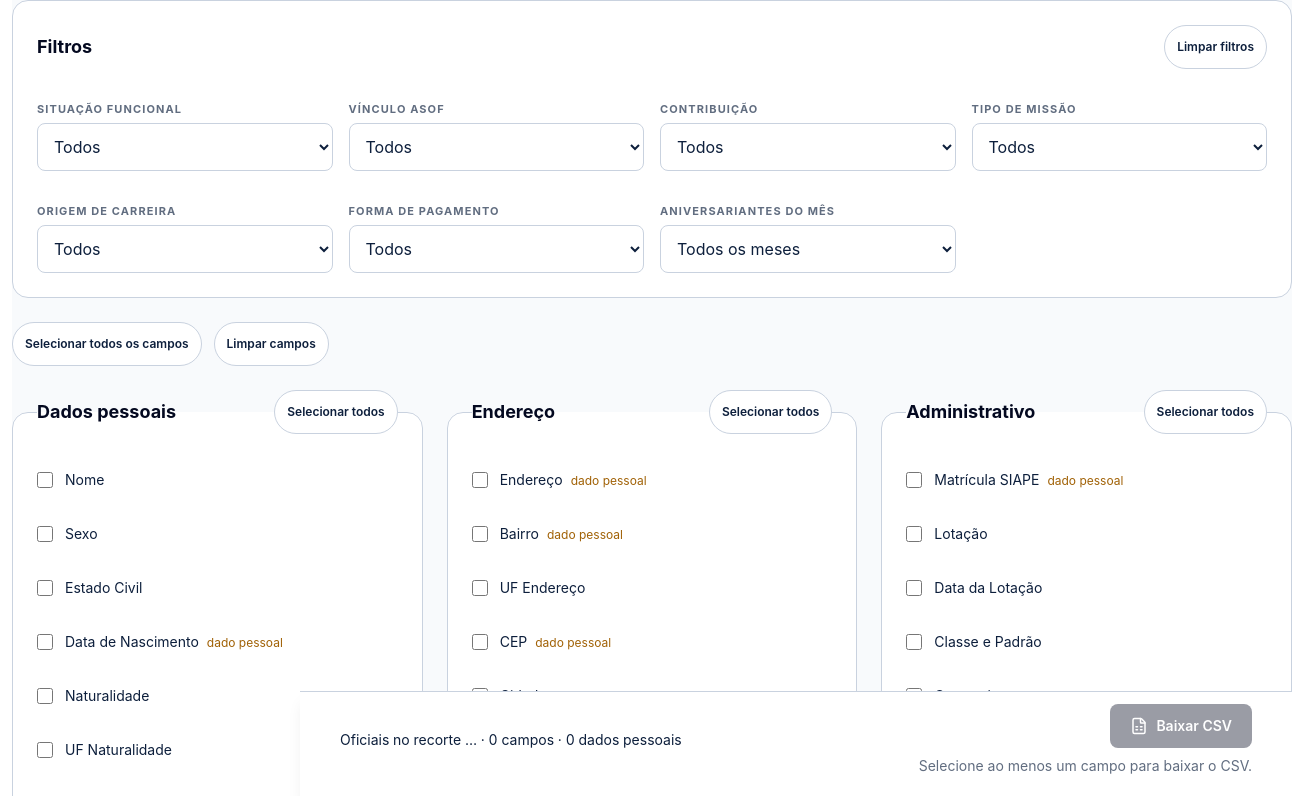
Test: RelatorioForm › keeps Baixar CSV disabled until a field is selected
Check: the heading "Filtros" is shown, box [37,33,92,61]
Check: the button "Baixar CSV" is disabled, box [1110,704,1252,748]
Click the checkbox labelled "Nome" at (45, 480), box [37,472,53,488]
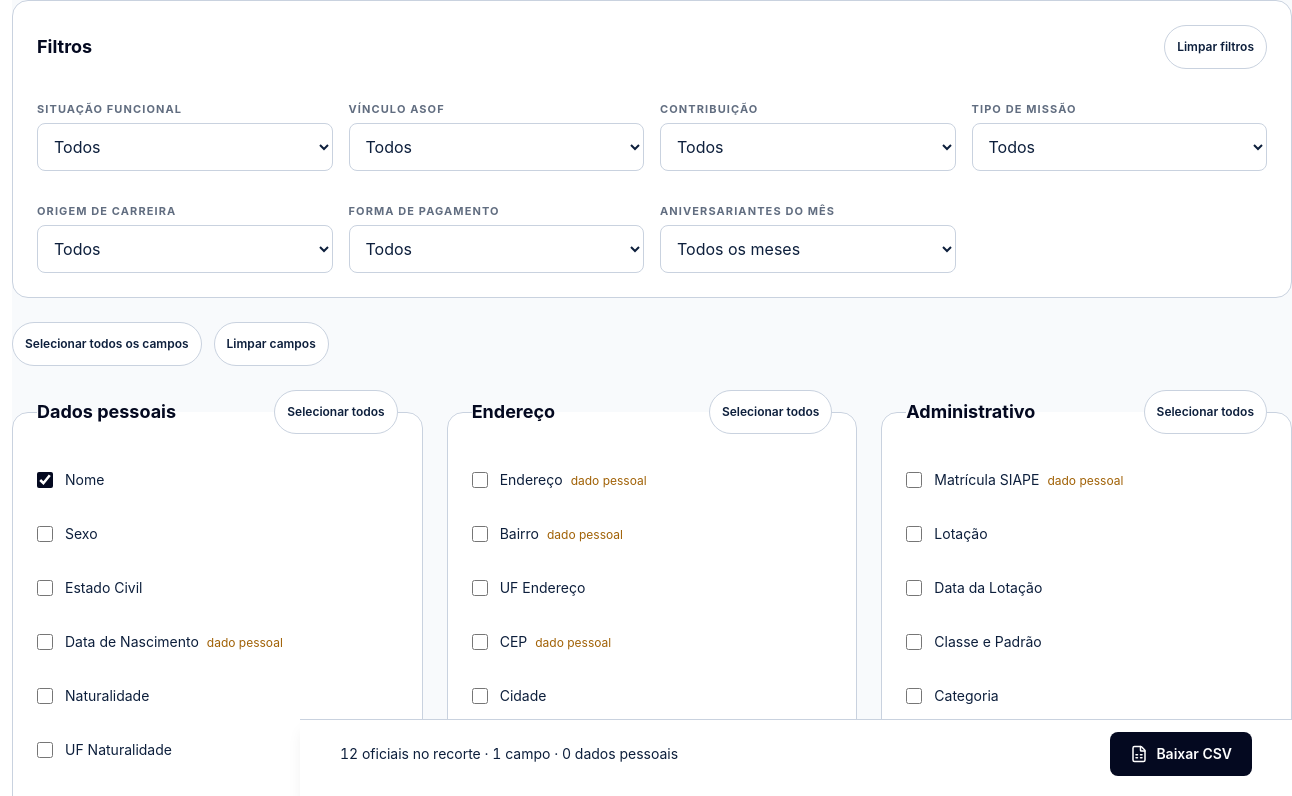
Check: the button "Baixar CSV" is enabled, box [1110,732,1252,776]
